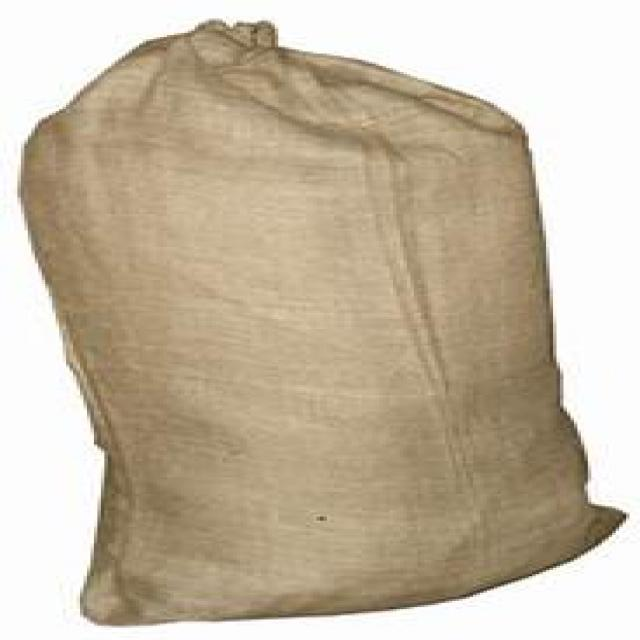gunny_bag: (5, 17, 640, 636)
